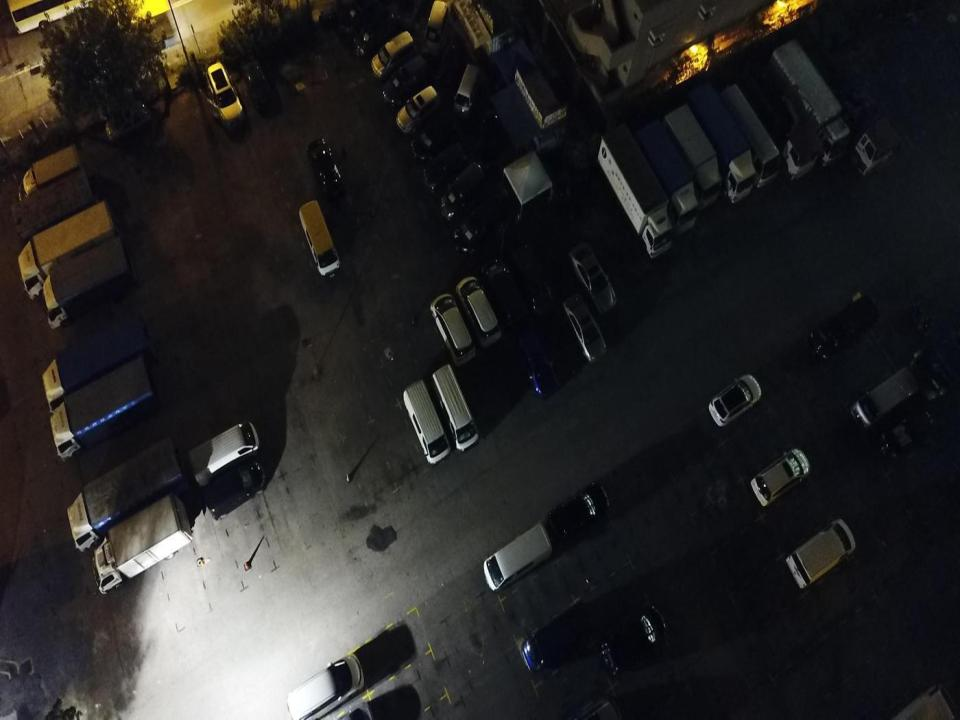car: (521, 601, 592, 673), (600, 604, 666, 674), (548, 482, 609, 544), (878, 403, 939, 461), (569, 241, 617, 314), (538, 302, 580, 378), (510, 329, 557, 396), (563, 293, 606, 363), (709, 372, 761, 427), (204, 62, 244, 133), (440, 162, 486, 221), (306, 137, 345, 203), (514, 245, 552, 311), (421, 143, 468, 191), (396, 85, 440, 136), (412, 111, 455, 162), (243, 57, 274, 110), (437, 35, 463, 85), (478, 106, 497, 168)
truck: (794, 26, 901, 174), (67, 436, 191, 552), (42, 313, 157, 418), (50, 356, 162, 460), (19, 199, 124, 302), (598, 122, 674, 258), (770, 38, 850, 166), (92, 493, 192, 594), (739, 57, 820, 179), (43, 237, 138, 329), (687, 78, 756, 202), (636, 116, 697, 235), (11, 167, 99, 248), (662, 101, 721, 209), (17, 145, 82, 206)
van: (717, 82, 781, 188), (284, 653, 364, 719), (785, 517, 857, 589), (808, 293, 880, 360), (484, 522, 554, 590), (850, 366, 918, 432), (189, 422, 259, 486), (432, 364, 480, 452), (402, 379, 450, 465), (202, 459, 264, 520), (453, 190, 510, 254), (430, 292, 476, 366), (298, 199, 340, 280), (750, 448, 809, 505), (456, 275, 501, 347), (480, 256, 525, 322), (354, 11, 403, 59), (382, 55, 430, 104), (370, 28, 416, 77), (421, 0, 449, 59), (454, 62, 481, 118)
